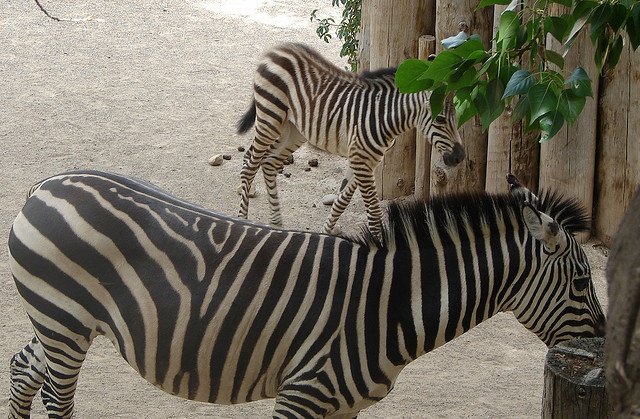zebra: (10, 170, 606, 418), (234, 44, 466, 238)
